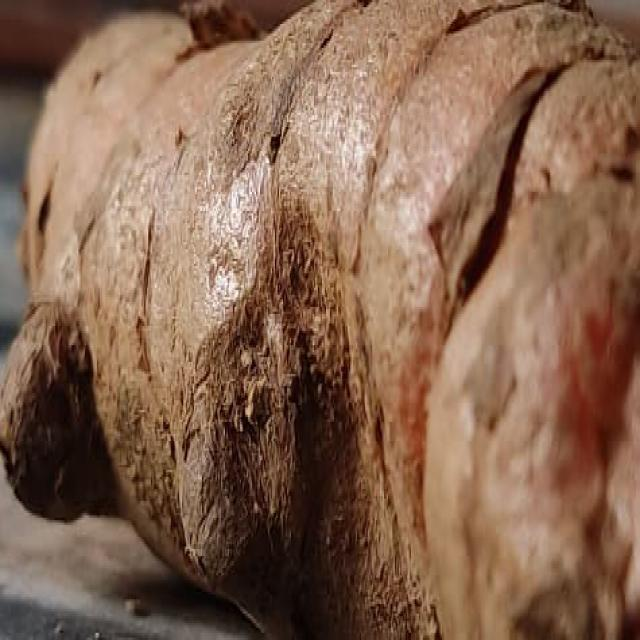ginger: (6, 13, 640, 634)
